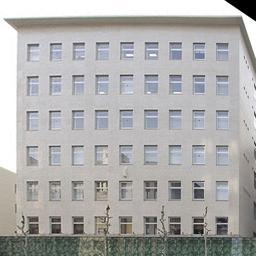building: (8, 6, 256, 236)
